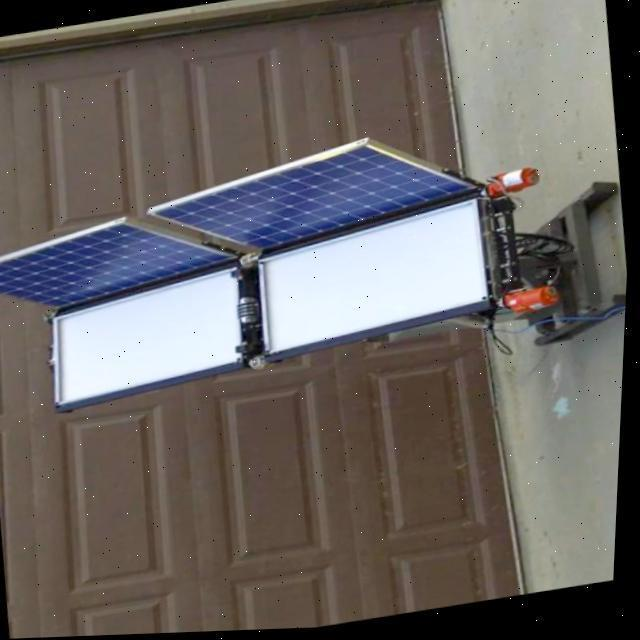Normal Solar Panel: (144, 124, 484, 265), (0, 202, 239, 317)
